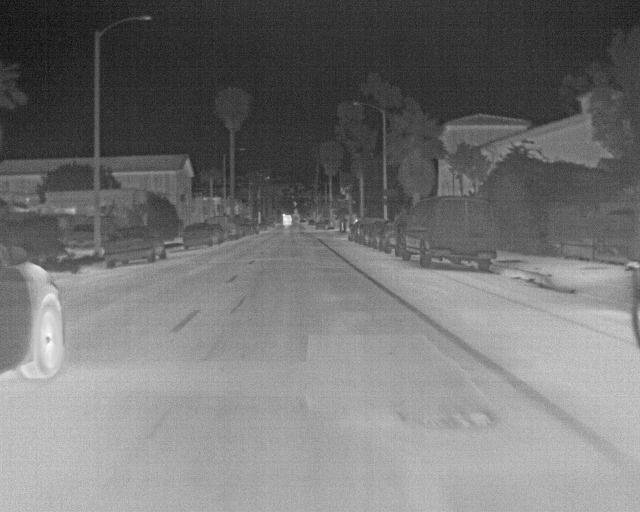car: (0, 238, 67, 383), (400, 195, 499, 270), (106, 227, 168, 269), (181, 220, 213, 250), (383, 219, 401, 257), (218, 216, 240, 242), (366, 221, 383, 249), (354, 221, 369, 245), (346, 222, 359, 240), (239, 221, 252, 235), (256, 222, 267, 233), (314, 221, 326, 231)
